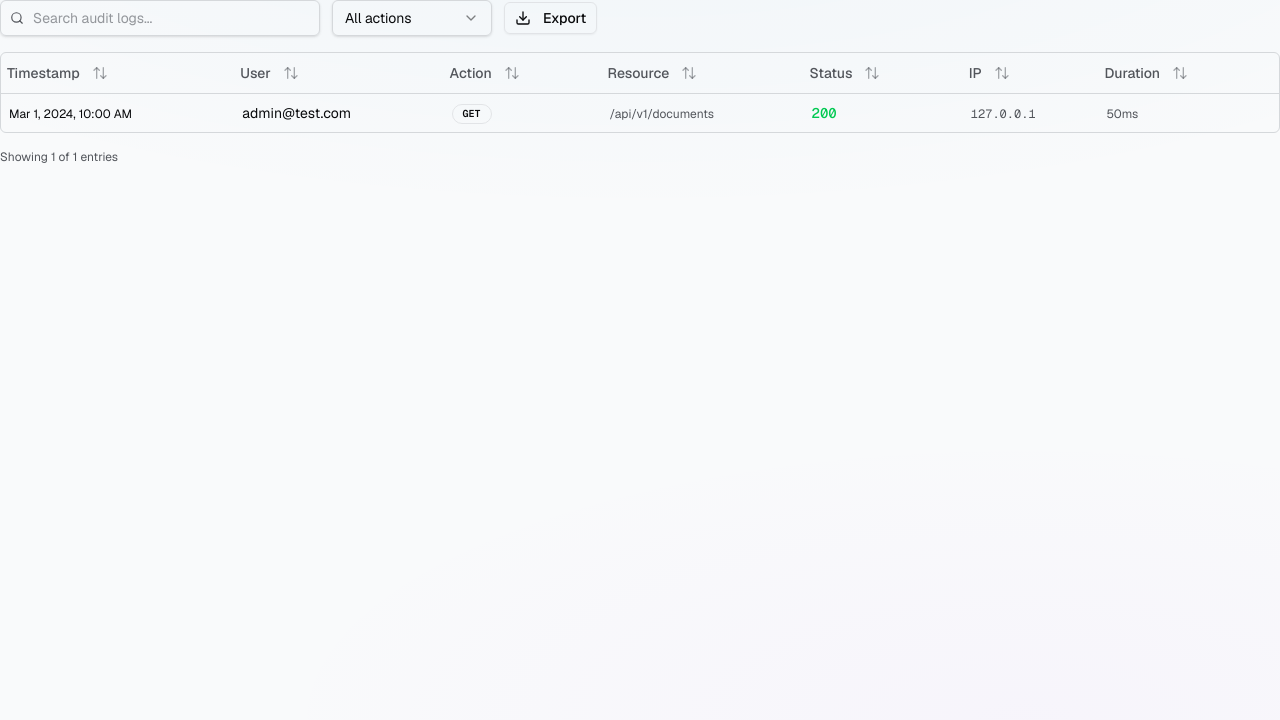
Test: AuditLogTable export dialog › clicking cancel closes the dialog
Click the button with test id "server-export-button" at (551, 18), box [504,2,597,34]
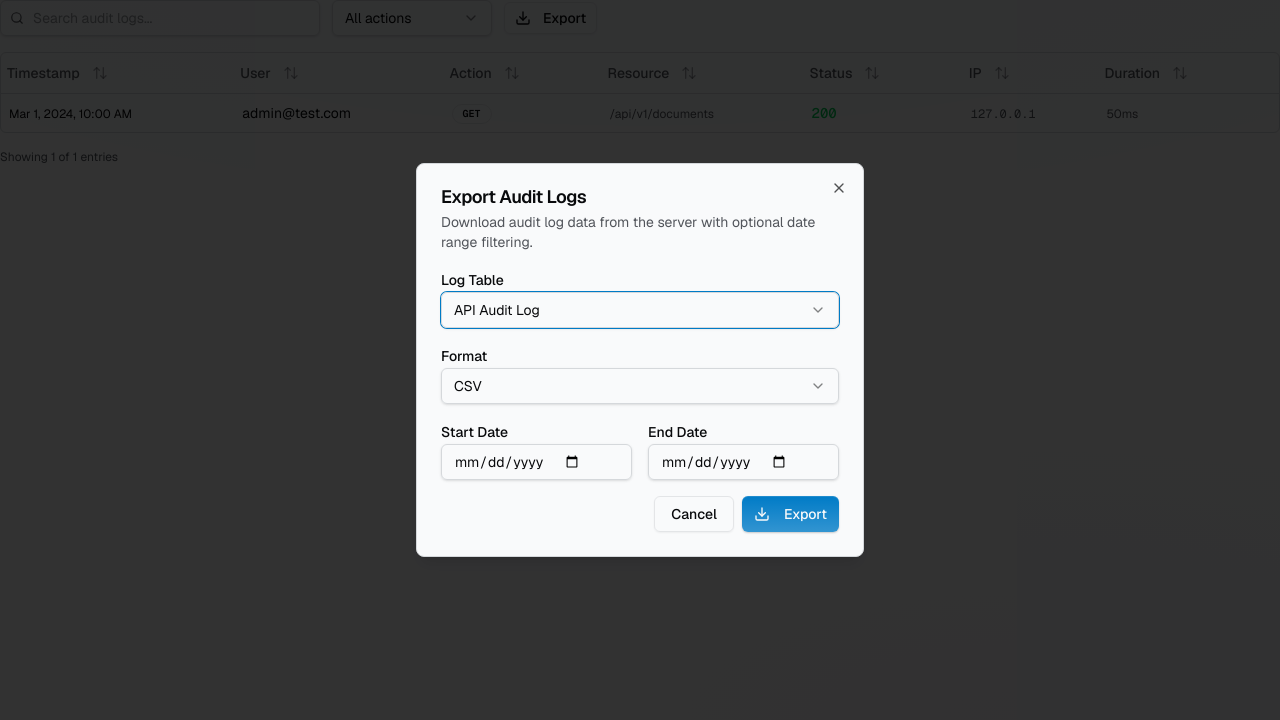
Result: the dialog with test id "audit-export-dialog" is shown at [416,163,864,557]
Click the button "Cancel" at (694, 514), box [654,496,734,532]
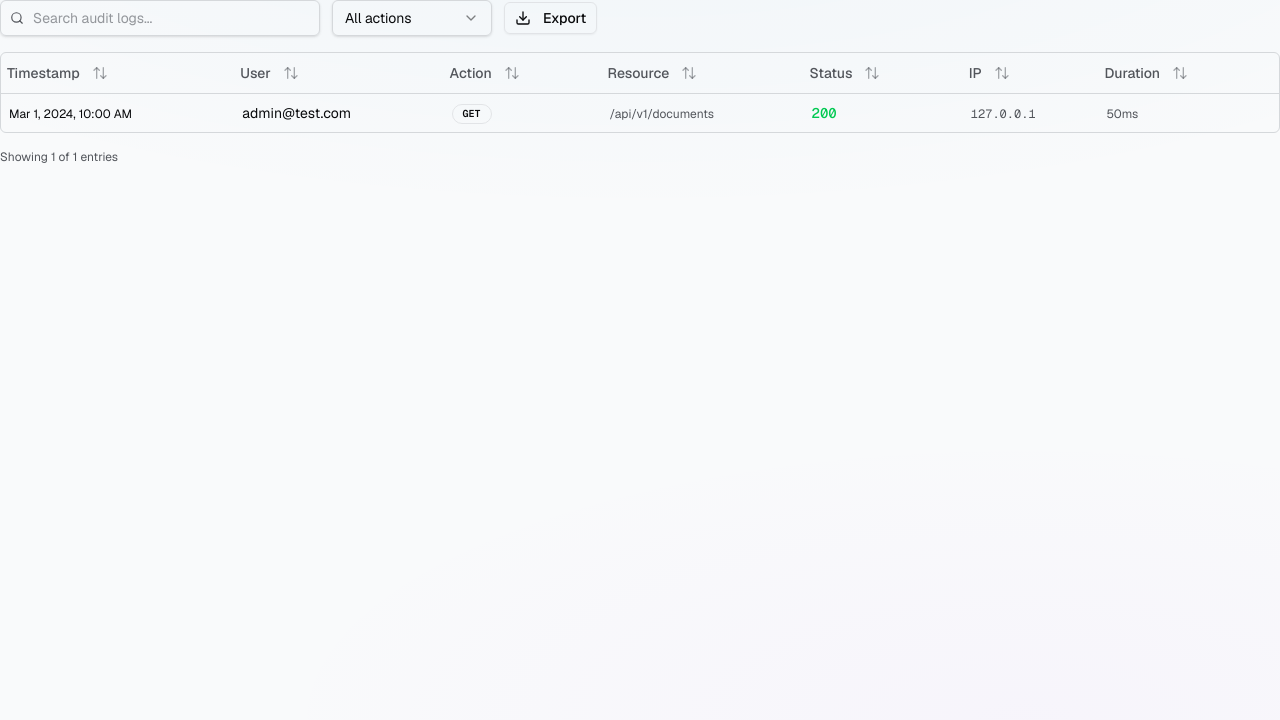
Result: the dialog with test id "audit-export-dialog" is gone
